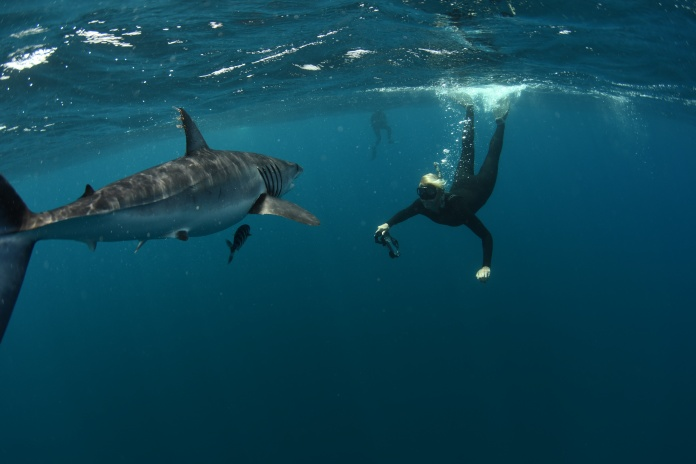Mako: (1, 99, 337, 347)
